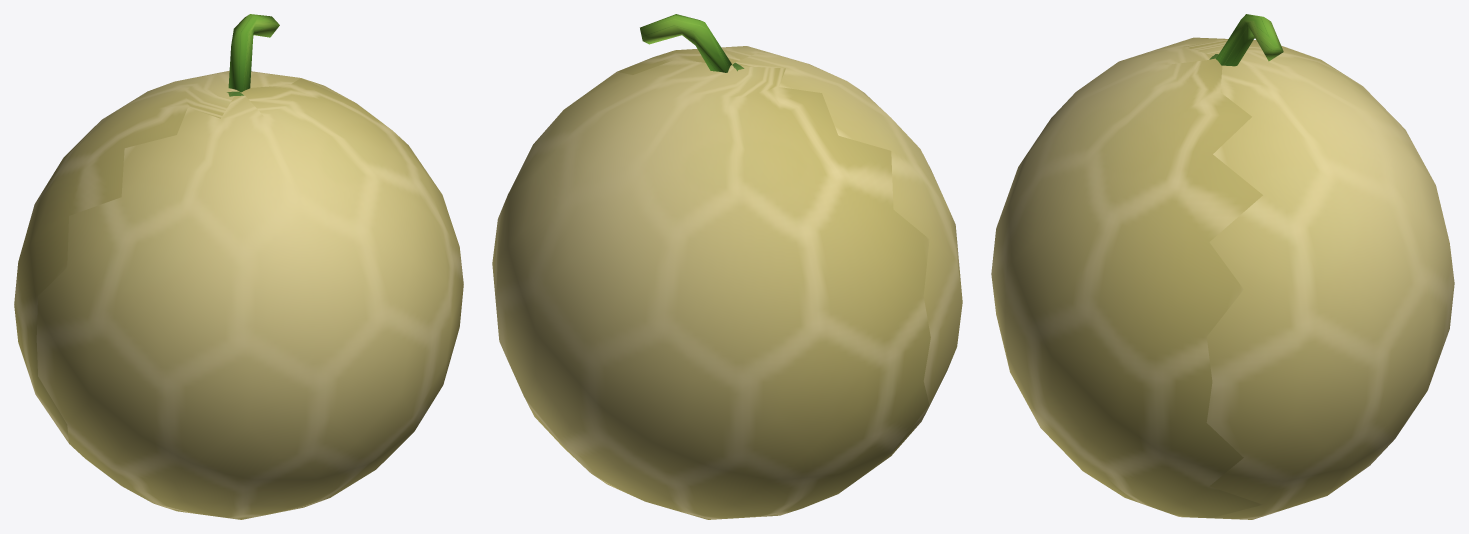
The model's file is NP_Melon_Harvest_LOD1.fbx.
3 views of the same model, side by side, from view 1: azimuth 30°, elevation 25°; view 2: azimuth 150°, elevation 25°; view 3: azimuth 270°, elevation 25° (orthographic). The views are drawn at different scales.
Visible parts, largest first — view 1: NP_Melon_Harvest; view 2: NP_Melon_Harvest; view 3: NP_Melon_Harvest.
Boxes of the visible parts, box(x1,y1,x2,y2) form: NP_Melon_Harvest: box(14, 14, 463, 519); NP_Melon_Harvest: box(492, 14, 962, 519); NP_Melon_Harvest: box(991, 14, 1454, 519).
Bounding box in the file's own units: 39.15 × 44.07 × 37.15.
